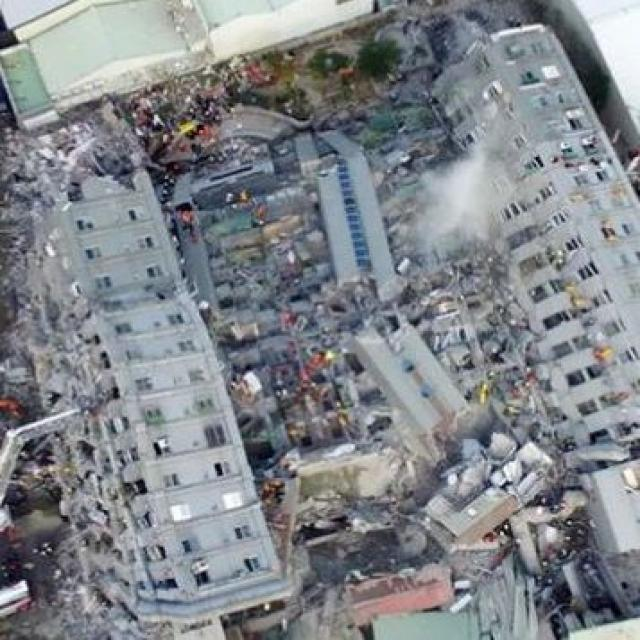collapsed_building: (31, 44, 610, 603)
